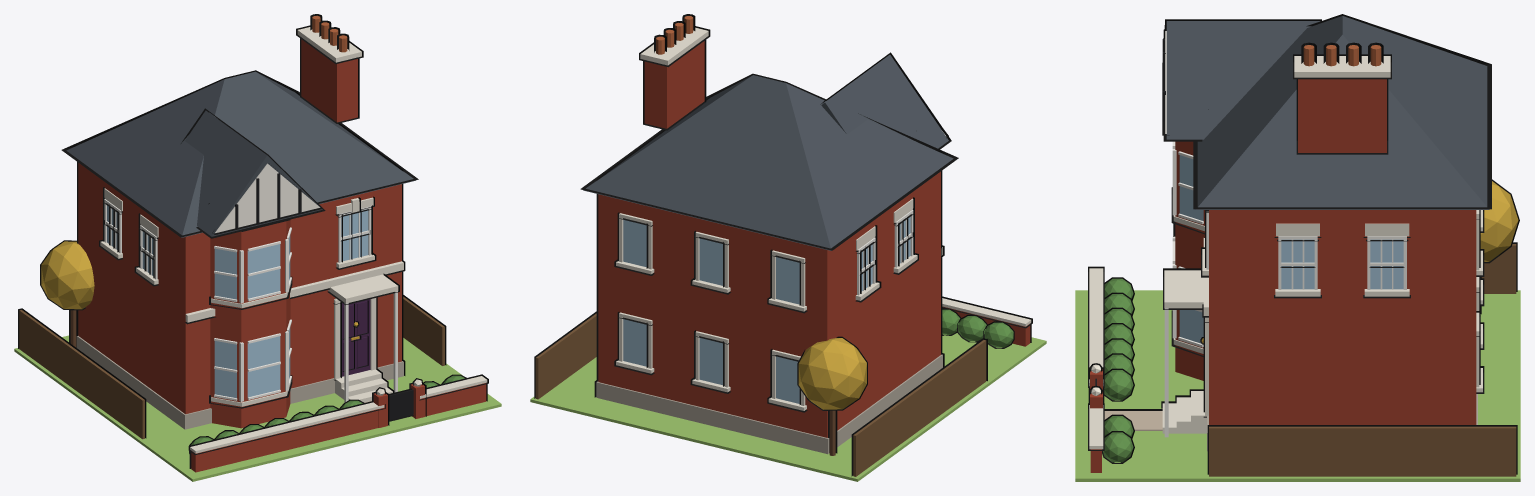
Rendered from MustakilEv_londra_edwardian_3.fbx.
The picture shows the model from 3 angles, left to right: view 1: azimuth 30°, elevation 25°; view 2: azimuth 150°, elevation 25°; view 3: azimuth 270°, elevation 25°; orthographic projection. The views are drawn at different scales.
Visible parts, largest first — view 1: MustakilEv_londra_edwardian_3; view 2: MustakilEv_londra_edwardian_3; view 3: MustakilEv_londra_edwardian_3.
Boxes of the visible parts, x1,y1,x2,y2 form: MustakilEv_londra_edwardian_3: (14,14,501,481); MustakilEv_londra_edwardian_3: (530,14,1046,481); MustakilEv_londra_edwardian_3: (1075,14,1520,481).
Size of the model in its own units: 10 by 9.82 by 10.
